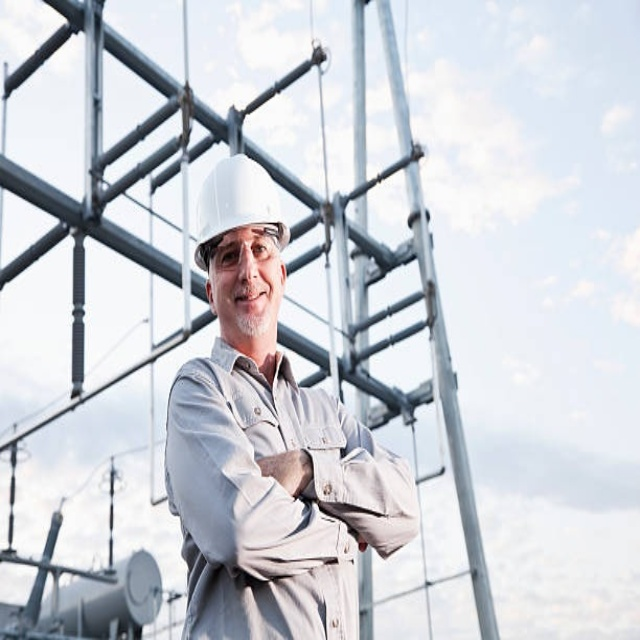Gafas: (206, 231, 283, 272)
Sin_mascara: (229, 282, 268, 328)
